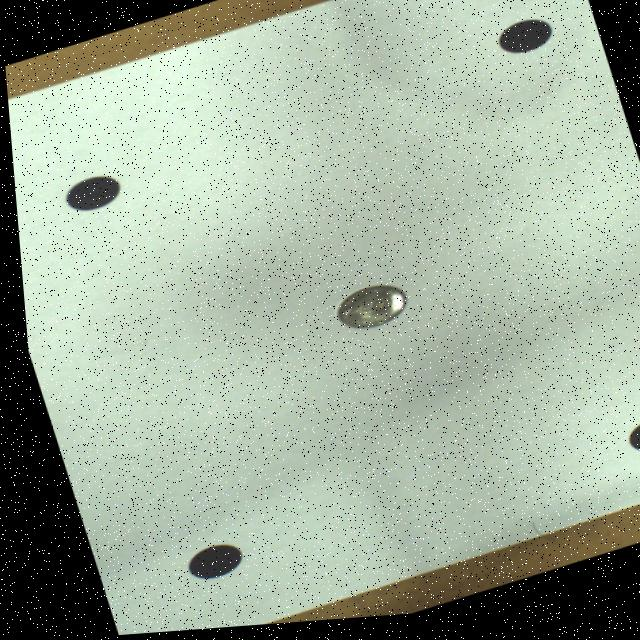space: (62, 177, 116, 212), (178, 547, 232, 581), (496, 27, 550, 61), (620, 429, 640, 460)
tail1bath: (331, 290, 400, 333)
